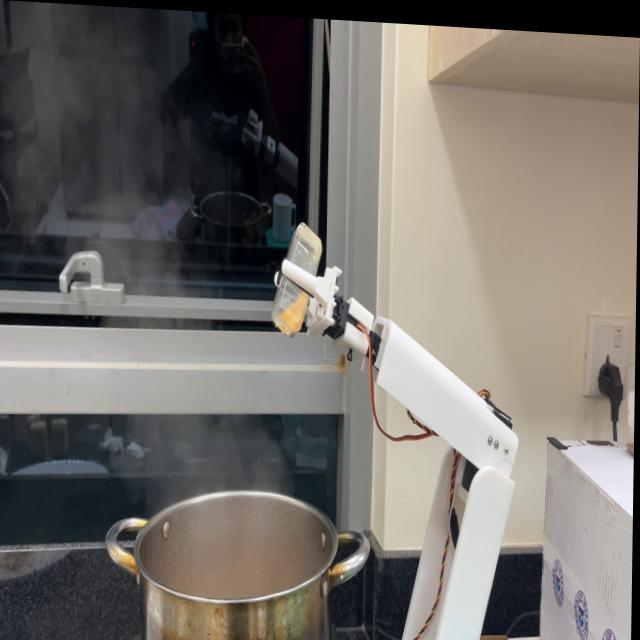cooking_pot: (107, 489, 378, 640)
garlic_powder: (277, 291, 308, 342)
